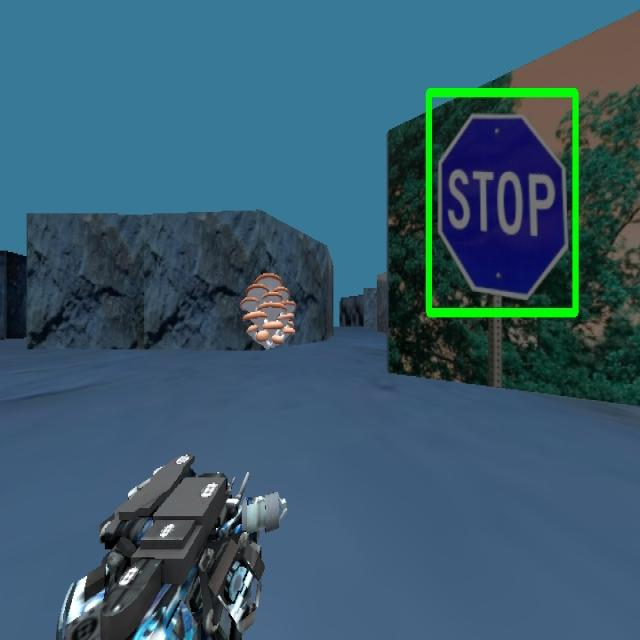Mushroom: (239, 271, 296, 349)
Stop_Sign: (429, 94, 581, 310)
